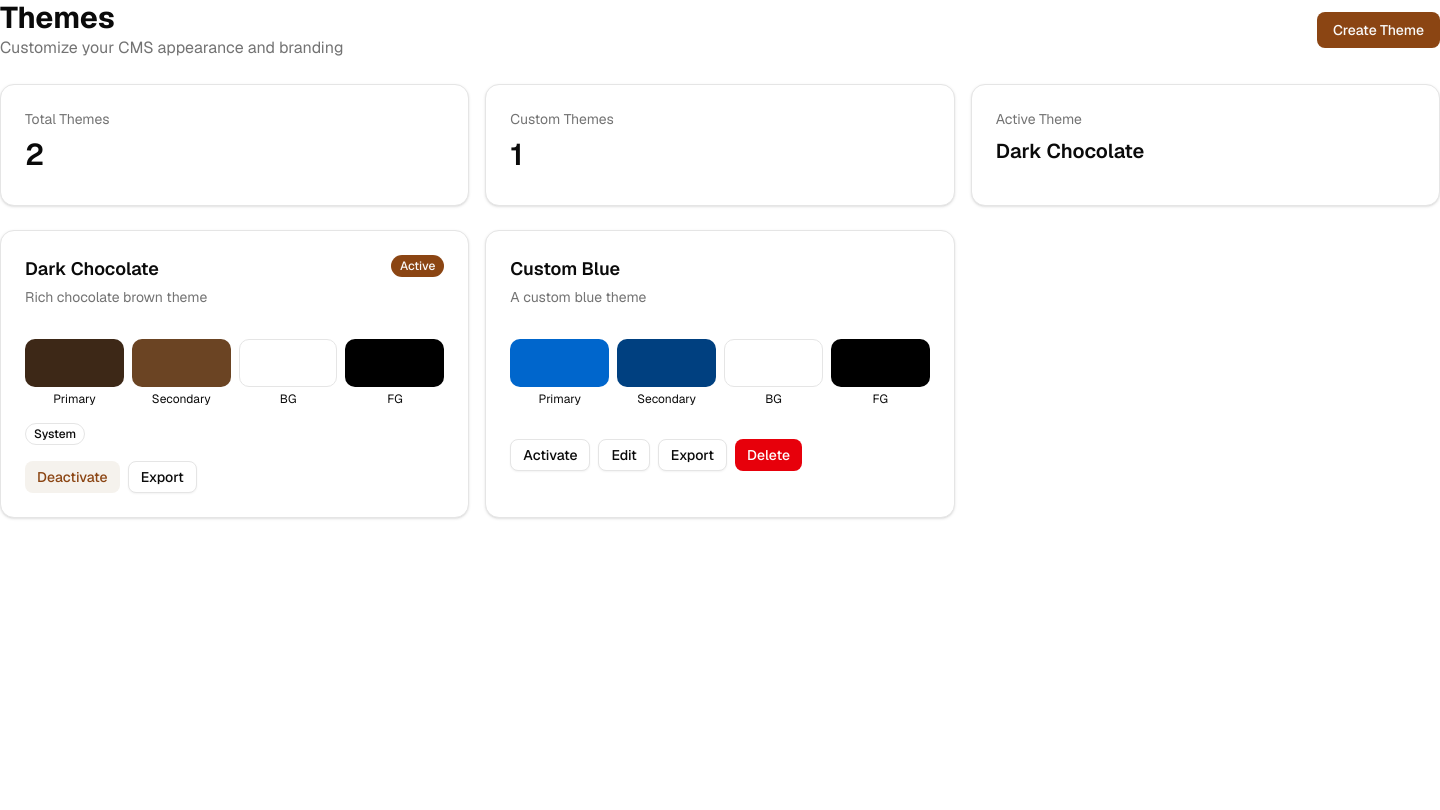
ThemesPage › Delete Theme › should show confirmation dialog before deleting
The width and height of the screenshot is (1440, 810).
Click the button "Delete".
click(769, 455)  # box [735, 439, 802, 471]
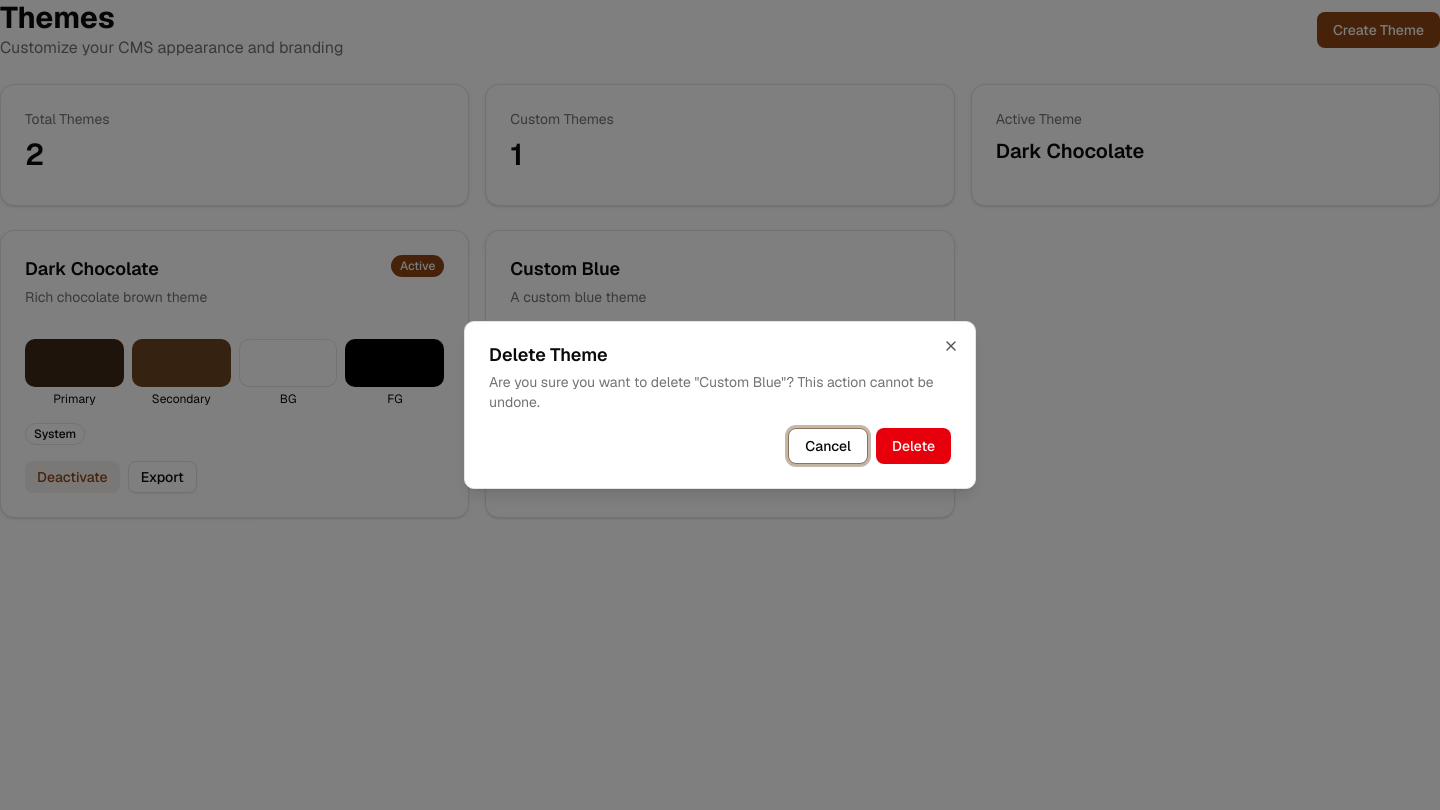
Now the dialog is shown, box [464, 321, 976, 489]
Now the text "Are you sure you want to delete" is shown, box [489, 373, 699, 391]
